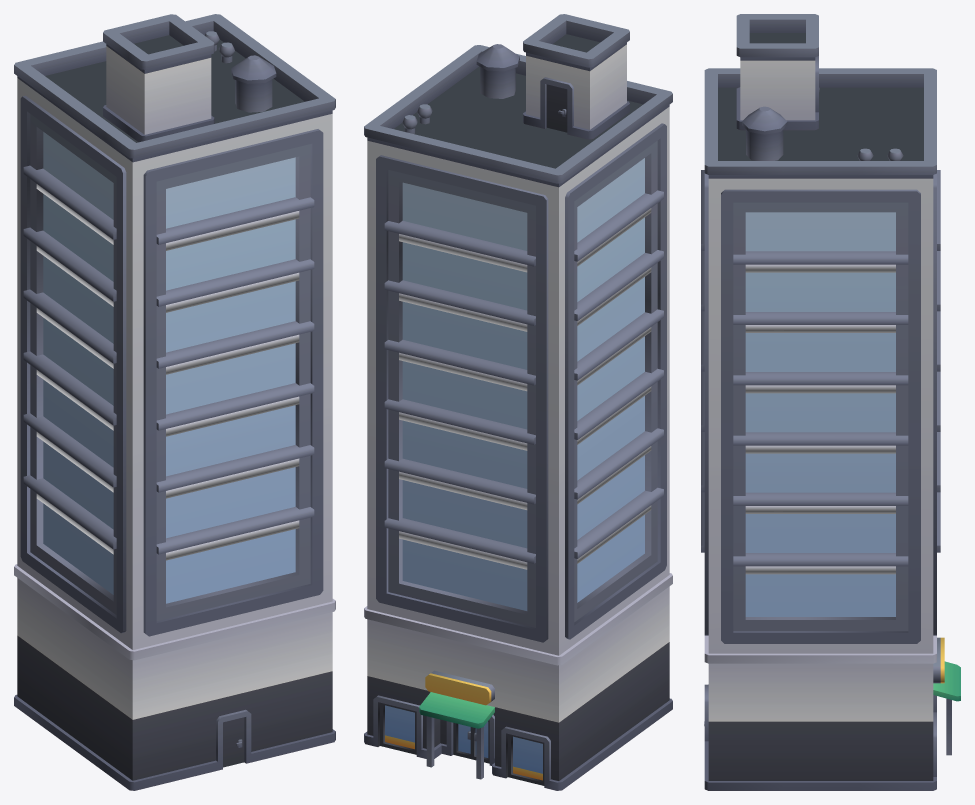
Rendered from k-city-kit-commercial-building-skyscraper-c.glb.
3 views of the same model, side by side, from view 1: azimuth 30°, elevation 25°; view 2: azimuth 150°, elevation 25°; view 3: azimuth 270°, elevation 25° (orthographic). The views are drawn at different scales.
Visible parts, largest first — view 1: building-skyscraper-c; view 2: building-skyscraper-c; view 3: building-skyscraper-c.
Part boxes in pixels (x1=…): building-skyscraper-c: x1=14, y1=14, x2=335, y2=790; building-skyscraper-c: x1=364, y1=14, x2=672, y2=790; building-skyscraper-c: x1=701, y1=14, x2=960, y2=790.
Bounding box in the file's own units: 1.28 × 4.08 × 1.39.
Materials: 1 (1 with a texture image).
